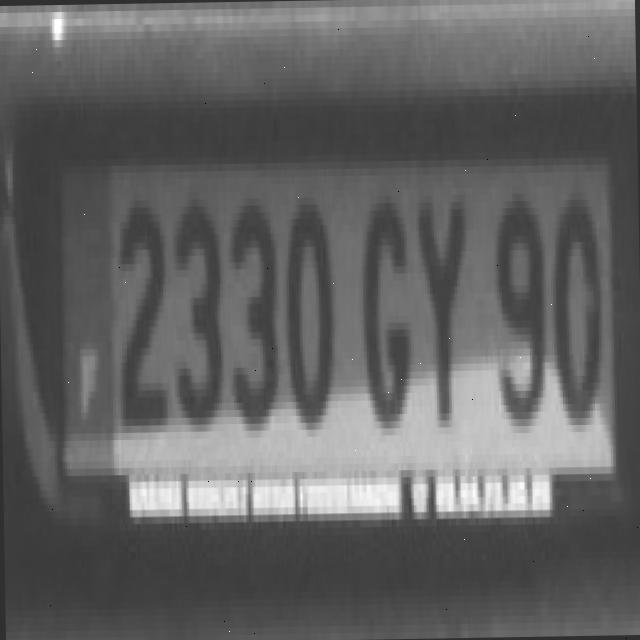EU: (64, 163, 615, 473)
France: (58, 165, 115, 479)
